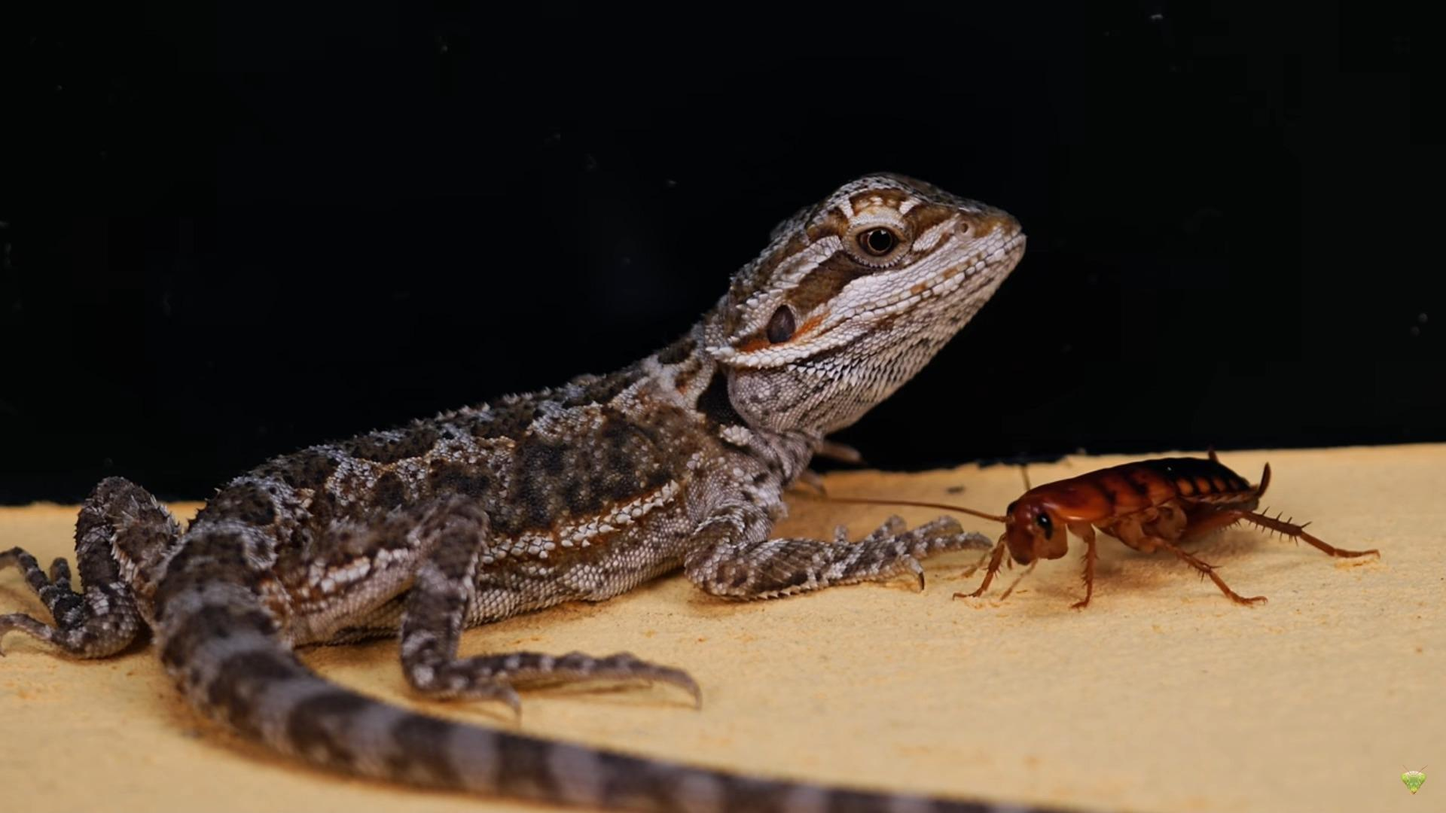cockroach: (976, 444, 1334, 612)
lizard: (25, 168, 1028, 808)
